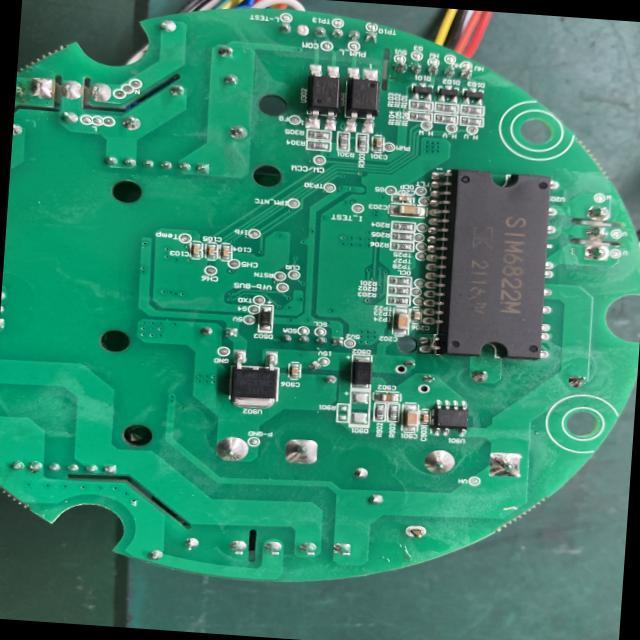damged: (418, 334, 446, 354)
